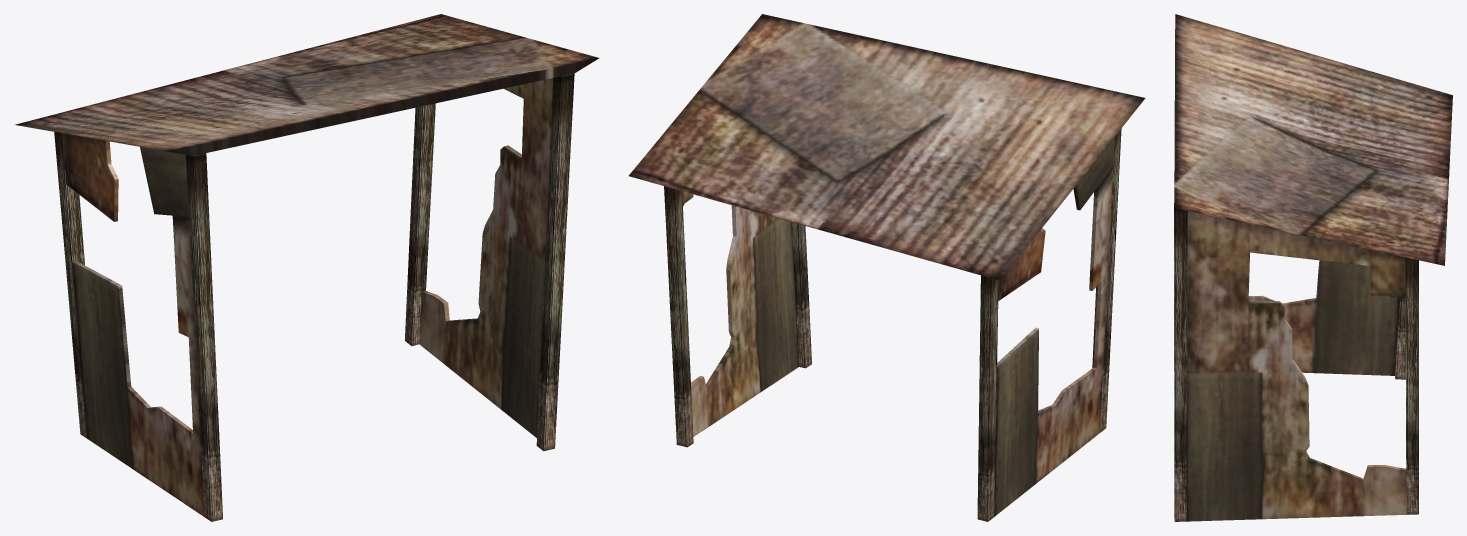
The model's file is MogShd2.glb.
3 renders of one model, left to right at view 1: azimuth 30°, elevation 25°; view 2: azimuth 150°, elevation 25°; view 3: azimuth 270°, elevation 25°, orthographic. The views are drawn at different scales.
Parts seen in each view (by area): view 1: _MogShd2; view 2: _MogShd2; view 3: _MogShd2.
Boxes of the visible parts, x1=… form: _MogShd2: x1=15, y1=14, x2=599, y2=521; _MogShd2: x1=628, y1=14, x2=1145, y2=521; _MogShd2: x1=1174, y1=14, x2=1452, y2=521.
Size of the model in its own units: 3.7 by 3.2 by 2.36.
Materials: 2 (2 with a texture image).
